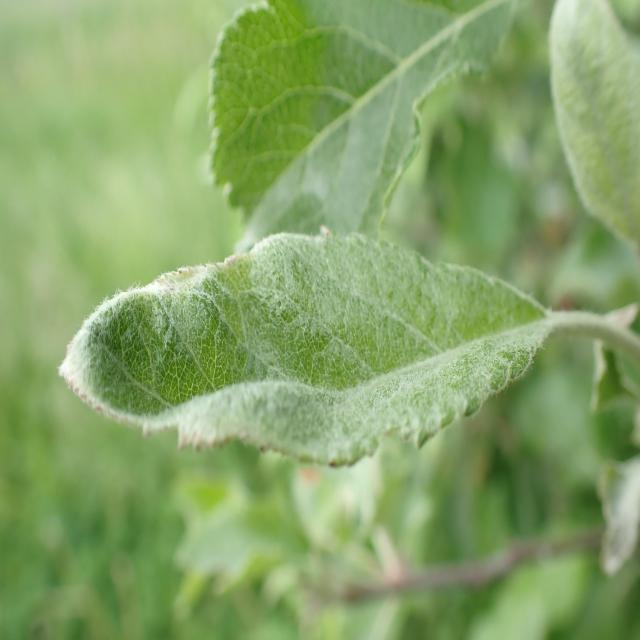Powdery_mildew: (64, 228, 551, 470), (542, 0, 640, 276)
